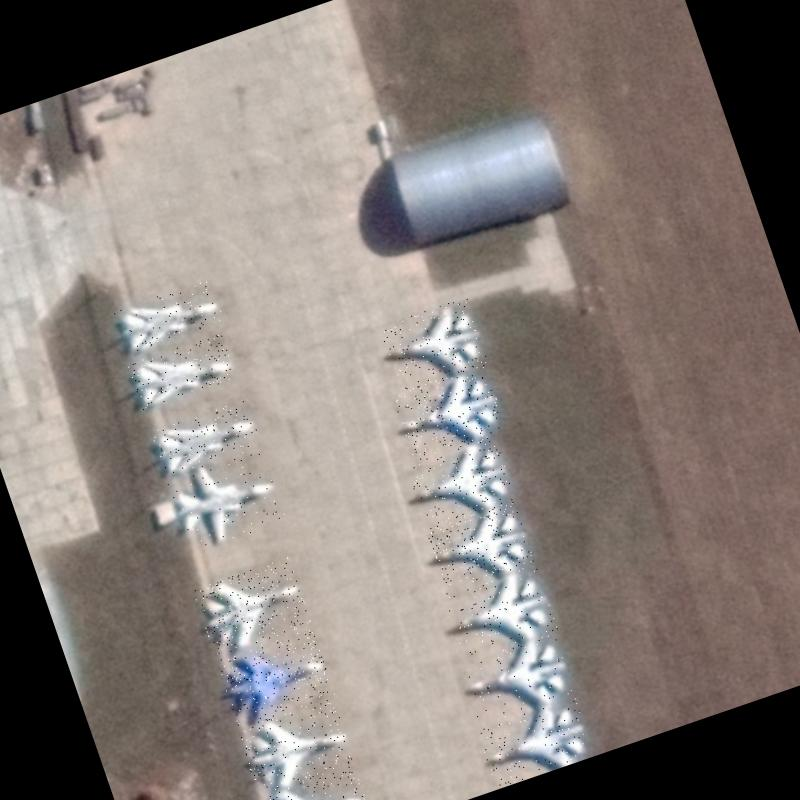A1: (215, 626, 336, 730), (236, 697, 356, 798), (192, 557, 312, 657), (392, 364, 508, 462), (442, 563, 558, 661), (460, 632, 576, 728), (378, 297, 491, 394), (477, 696, 596, 788), (406, 434, 516, 529), (426, 500, 535, 592), (251, 763, 376, 800)
A20: (163, 443, 287, 554), (149, 399, 262, 478), (114, 278, 226, 356), (127, 332, 237, 410)
